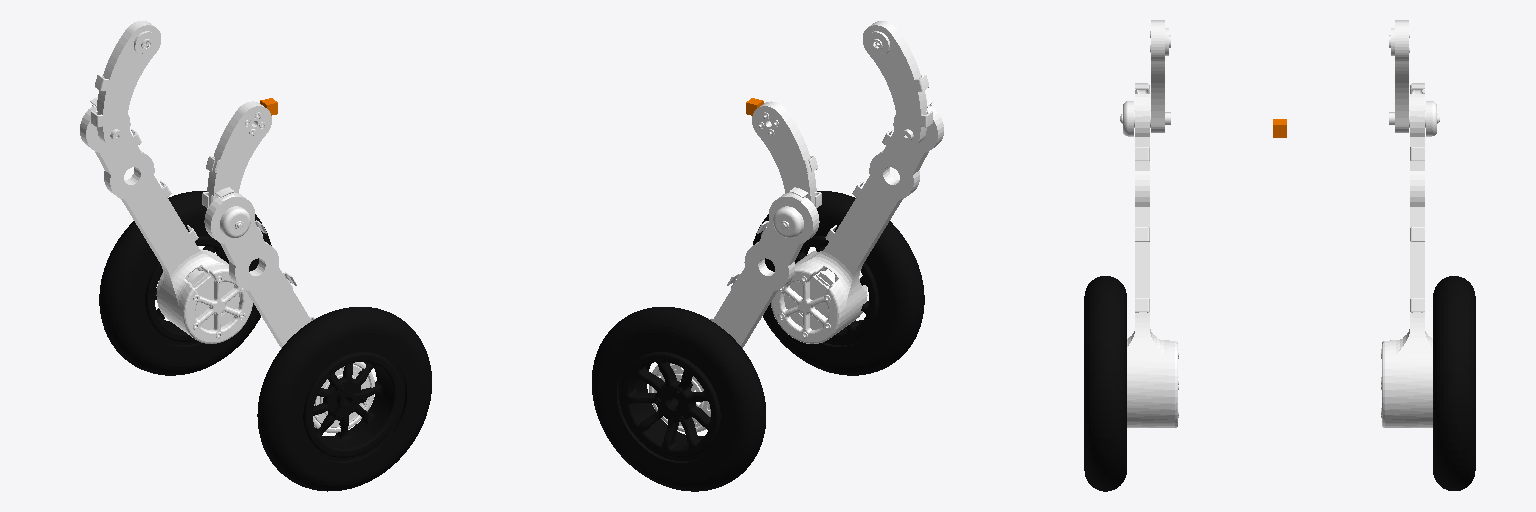
URDF robot description (wheel_biped_robot):
<?xml version="1.0" ?>
<robot name="wheel_biped_robot">

  <gazebo>
    <static>false</static>
  </gazebo>
<!--
  <link name="base_footprint">
    <inertial>
      <mass value="0.001"/>
      <origin rpy="0 0 0" xyz="0 0 0"/>
      <inertia ixx="0.0001" ixy="0" ixz="0" iyy="0.0001" iyz="0" izz="0.0001"/>
    </inertial>
  </link>

  <joint name="base_joint" type="fixed">
    <parent link="base_footprint"/>
    <child link="base_link"/>
    <origin rpy="0 0 0" xyz="0 0 0.5"/>
 </joint>
-->
  <link name="base_link">
    <visual>
      <geometry>
        <mesh filename="package://twl_sim/modeling/meshes/stl/MainBody_Visual.stl"/>
      </geometry>
      <material name="white">
        <color rgba="1 1 1 1"/>
      </material>
    </visual>
    <collision>
      <geometry>
        <mesh filename="package://twl_sim/modeling/meshes/stl/MainBody_Collision.stl"/>
      </geometry>
    </collision>
    <inertial>
      <mass value="1.41404421338"/>
      <origin rpy="0 0 0" xyz="0.01819659659 -0.00024888409 0.03542269696"/>
      <inertia ixx="0.004191453724966" ixy="0.000019611026617" ixz="0.000183001274225" iyy="0.006619178754250" iyz="0.000006399950187" izz="0.007735669494723"/>
    </inertial>
  </link>

  <link name="RightActiveThigh_link">
    <visual>
      <geometry>
        <mesh filename="package://twl_sim/modeling/meshes/stl/ThighLink_Active_Right_Visual.stl"/>
      </geometry>
      <material name="white"/>
    </visual>
    <collision>
      <geometry>
        <mesh filename="package://twl_sim/modeling/meshes/stl/ThighLink_Active_Right_Collision.stl"/>
      </geometry>
    </collision>
    <inertial>
      <mass value="0.04241994494"/>
      <origin rpy="0 0 0" xyz="-0.04846902377 -0.00461143086 0.00204281842"/>
      <inertia ixx="0.0000050068969963" ixy="-0.00000644424742526" ixz="-0.00000084635096499" iyy="0.00004884985593152" iyz="-0.0000004043837437" izz="0.00004992941023364"/>
    </inertial>
  </link>

  <link name="RightCalf_link">
    <visual>
      <geometry>
        <mesh filename="package://twl_sim/modeling/meshes/stl/Calf_Link_Right_Visual.stl"/>
      </geometry>
      <material name="white"/>
    </visual>
    <collision>
      <geometry>
        <mesh filename="package://twl_sim/modeling/meshes/stl/Calf_Link_Right_Collision.stl"/>
      </geometry>
    </collision>
    <inertial>
      <mass value="0.33823782393"/>
      <origin rpy="0 0 0" xyz="0.16971091698 0.00392574726 0.00713537305"/>
      <inertia ixx="0.000108187868306" ixy="0.00000568913762061" ixz="-0.0000343484358461" iyy="0.00084962131645905" iyz="0.00000026626892472" izz="0.00082031486080829"/>
    </inertial>
  </link>

  <link name="RightWheel_link">
    <visual>
      <geometry>
        <mesh filename="package://twl_sim/modeling/meshes/stl/Wheel_Right_Visual.stl"/>
      </geometry>
      <material name="black">
        <color rgba="0.1 0.1 0.1 1"/>
      </material>
    </visual>
    <collision>
      <geometry>
        <mesh filename="package://twl_sim/modeling/meshes/stl/Wheel_Right_Collision.stl"/>
      </geometry>
    </collision>
    <inertial>
      <mass value="0.21411770281"/>
      <origin rpy="0 0 0" xyz="-0.00000761 0.48438625 -0.00000031"/>
      <inertia ixx="0.00033410460295742" ixy="-0.000000000692262" ixz="-0.00000000004512" iyy="0.00064074279507983" iyz="0.000000000005987" izz="0.00033410465585037"/>
    </inertial>
  </link>
<!--
  <link name="RightPassiveThigh_link">
    <visual>
      <geometry>
        <mesh filename="package://twl_sim/modeling/meshes/stl/ThighLink_Passive_Right_Visual.stl"/>
      </geometry>
    </visual>
    <collision>
      <geometry>
        <mesh filename="package://twl_sim/modeling/meshes/stl/ThighLink_Passive_Right_Collision.stl"/>
      </geometry>
    </collision>
    <inertial>
      <mass value="0.03926139565"/>
      <origin rpy="0 0 0" xyz="-0.07721916722 -0.01027201342 -0.00386042407"/>
      <inertia ixx="0.000005253535542220" ixy="-0.000005957246863360" ixz="0.000002247315833890" iyy="0.000060185494515380" iyz="0.000000799056070920" izz="0.000060398225116460"/>
    </inertial>
  </link>
-->
  <link name="LeftActiveThigh_link">
    <visual>
      <geometry>
        <mesh filename="package://twl_sim/modeling/meshes/stl/ThighLink_Active_Left_Visual.stl"/>
      </geometry>
      <material name="white"/>
    </visual>
    <collision>
      <geometry>
        <mesh filename="package://twl_sim/modeling/meshes/stl/ThighLink_Active_Left_Collision.stl"/>
      </geometry>
    </collision>
    <inertial>
      <mass value="0.04241994494"/>
      <origin rpy="0 0 0" xyz="-0.04846903323 0.00461143087 0.00204282631"/>
      <inertia ixx="0.00000500689568398" ixy="0.00000644424555368" ixz="-0.00000084635023128" iyy="0.00004884983835373" iyz="0.00000040438523501" izz="0.00004992939396428"/>
    </inertial>
  </link>

  <link name="LeftCalf_link">
    <visual>
      <geometry>
        <mesh filename="package://twl_sim/modeling/meshes/stl/Calf_Link_Left_Visual.stl"/>
      </geometry>
      <material name="white"/>
    </visual>
    <collision>
      <geometry>
        <mesh filename="package://twl_sim/modeling/meshes/stl/Calf_Link_Left_Collision.stl"/>
      </geometry>
    </collision>
    <inertial>
      <mass value="0.33823782393"/>
      <origin rpy="0 0 0" xyz="0.1697107318 -0.00392577446 0.00713663078"/>
      <inertia ixx="0.0001081875337499" ixy="-0.00000568874489609" ixz="-0.0000343493986893" iyy="0.00084962461514512" iyz="-0.00000027220346797" izz="0.00082031828517488"/>
    </inertial>
  </link>

  <link name="LeftWheel_link">
    <visual>
      <geometry>
        <mesh filename="package://twl_sim/modeling/meshes/stl/Wheel_Left_Visual.stl"/>
      </geometry>
      <material name="black"/>
    </visual>
    <collision>
      <geometry>
        <mesh filename="package://twl_sim/modeling/meshes/stl/Wheel_Left_Collision.stl"/>
      </geometry>
    </collision>
    <inertial>
      <mass value="0.23711770281"/>
      <origin rpy="0 0 0" xyz="-0.00000687 0.43740164 -0.00000028"/>
      <inertia ixx="0.00037716950236306" ixy="-0.000000000684531" ixz="-0.000000000114686" iyy="0.00072399902807526" iyz="0.000000000006205" izz="0.000377169522061"/>
    </inertial>
  </link>
<!--  
  <link name="LeftPassiveThigh_link">
    <visual>
      <geometry>
        <mesh filename="package://twl_sim/modeling/meshes/stl/ThighLink_Passive_Left_Visual.stl"/>
      </geometry>
    </visual>
    <collision>
      <geometry>
        <mesh filename="package://twl_sim/modeling/meshes/stl/ThighLink_Passive_Left_Collision.stl"/>
      </geometry>
    </collision>
    <inertial>
      <mass value="0.03926139565"/>
      <origin rpy="0 0 0" xyz="-0.07721916722 -0.01027201342 -0.00386042407"/>
      <inertia ixx="0.000005253535542220" ixy="-0.000005957246863360" ixz="0.000002247315833890" iyy="0.000060185494515380" iyz="-0.000000799056070920" izz="0.000060398225116460"/>
    </inertial>
  </link>
-->
  <link name="imu_link">
    <visual>
      <geometry>
        <box size="0.01 0.01 0.01"/>
      </geometry>
      <material name="orange">
        <color rgba="1.0 0.5 0.0 1.0"/>
      </material>
    </visual>
    <collision>
      <geometry>
        <box size="0.01 0.01 0.01"/>
      </geometry>
    </collision>
    <inertial>
      <mass value="0.01"/>
      <inertia ixx="1.66e-6" ixy="0" ixz="0" iyy="1.66e-6" iyz="0" izz="1.66e-6"/>
    </inertial>
  </link>

  <joint name="Base_RightActiveThigh" type="revolute">
    <parent link="base_link"/>
    <child link="RightActiveThigh_link"/>
    <origin rpy="0 -1.221206878 0" xyz="-0.064952 -0.086 0.0375"/>
    <axis xyz="0 1 0"/>
    <limit effort="100" lower="-1.57" upper="1.57" velocity="10"/>
  </joint>

  <joint name="RightActiveThigh_RightCalf" type="revolute">
    <parent link="RightActiveThigh_link"/>
    <child link="RightCalf_link"/>
    <origin rpy="0 2.343715386 0" xyz="-0.077 -0.016 0.00"/>
    <axis xyz="0 1 0"/>
    <limit effort="100" lower="-2.0" upper="1.57" velocity="10"/>
    <mimic joint="Base_RightActiveThigh" multiplier="-1.2" offset="0.0"/>
  </joint>

  <joint name="RightCalf_RightWheel" type="continuous">
    <parent link="RightCalf_link"/>
    <child link="RightWheel_link"/>
    <origin rpy="0 0 0" xyz="0.187 -0.021 0.008"/>
    <axis xyz="0 1 0"/>
  </joint>
<!--
  <joint name="Base_RightPassiveThigh" type="revolute">
    <parent link="base_link"/>
    <child link="RightPassiveThigh_link"/>
    <origin rpy="0 -0.8538150701 0" xyz="0.0 -0.081 0.0"/>
    <axis xyz="0 1 0"/>
    <limit effort="100" lower="-1.57" upper="1.57" velocity="10"/>
  </joint>
-->
  <joint name="Base_LeftActiveThigh" type="revolute">
    <parent link="base_link"/>
    <child link="LeftActiveThigh_link"/>
    <origin rpy="0 -1.221206878 0" xyz="-0.064952 0.086 0.0375"/>
    <axis xyz="0 1 0"/>
    <limit effort="100" lower="-1.57" upper="1.57" velocity="10"/>
  </joint>

  <joint name="LeftActiveThigh_LeftCalf" type="revolute">
    <parent link="LeftActiveThigh_link"/>
    <child link="LeftCalf_link"/>
    <origin rpy="0 2.343715386 0" xyz="-0.077 0.016 0.00"/>
    <axis xyz="0 1 0"/>
    <limit effort="100" lower="-2.0" upper="1.57" velocity="10"/>
    <mimic joint="Base_LeftActiveThigh" multiplier="-1.2" offset="0.0"/>   
  </joint>

  <joint name="LeftCalf_LeftWheel" type="continuous">
    <parent link="LeftCalf_link"/>
    <child link="LeftWheel_link"/>
    <origin rpy="0 0 0" xyz="0.187 0.021 0.008"/>
    <axis xyz="0 1 0"/>
  </joint>
<!--
  <joint name="Base_LeftPassiveThigh" type="revolute">
    <parent link="base_link"/>
    <child link="LeftPassiveThigh_link"/>
    <origin rpy="0 -0.8538150701 0" xyz="0.0 0.081 0.0"/>
    <axis xyz="0 1 0"/>
    <limit effort="100" lower="-1.2212" upper="0.518" velocity="10"/>
  </joint>
-->
  <joint name="Base_IMU" type="fixed">
    <parent link="base_link"/>
    <child link="imu_link"/>
    <origin rpy="0 0 0" xyz="0 0 0"/>
  </joint>

</robot>

--- Facts derived from the render (not from the file) ---
The picture shows the robot from 3 angles, left to right: view 1: azimuth 30°, elevation 25°; view 2: azimuth 150°, elevation 25°; view 3: azimuth 270°, elevation 25°; orthographic projection.
Model wheel_biped_robot with 8 links and 7 joints (4 revolute, 2 continuous, 1 fixed), rooted at base_link, posed every joint at zero.
Links seen in each view (by area): view 1: RightWheel_link, LeftCalf_link, LeftWheel_link, RightCalf_link, LeftActiveThigh_link, RightActiveThigh_link; view 2: LeftWheel_link, RightCalf_link, RightWheel_link, LeftCalf_link, RightActiveThigh_link, LeftActiveThigh_link; view 3: RightWheel_link, LeftWheel_link, RightCalf_link, LeftCalf_link, RightActiveThigh_link, LeftActiveThigh_link.
Link boxes in pixels (x1,y1,x2,y2): RightWheel_link: (257,307,431,491); LeftCalf_link: (80,97,252,343); LeftWheel_link: (99,191,271,375); RightCalf_link: (204,187,374,432); LeftActiveThigh_link: (91,21,160,146); RightActiveThigh_link: (202,101,271,237); LeftWheel_link: (592,307,765,491); RightCalf_link: (771,97,943,343); RightWheel_link: (753,191,924,375); LeftCalf_link: (649,187,819,431); RightActiveThigh_link: (863,21,932,146); LeftActiveThigh_link: (752,101,821,237); RightWheel_link: (1084,276,1126,491); LeftWheel_link: (1433,276,1475,490); RightCalf_link: (1127,83,1178,427); LeftCalf_link: (1381,83,1432,427); RightActiveThigh_link: (1120,20,1170,136); LeftActiveThigh_link: (1389,20,1439,136).
Size in the robot's own frame: 0.1844 by 0.276 by 0.3285 metres.
6 mesh visuals loaded from 7 distinct referenced files (6 binary STL); not drawn: 1 (reference not matched to a file when rendering).
